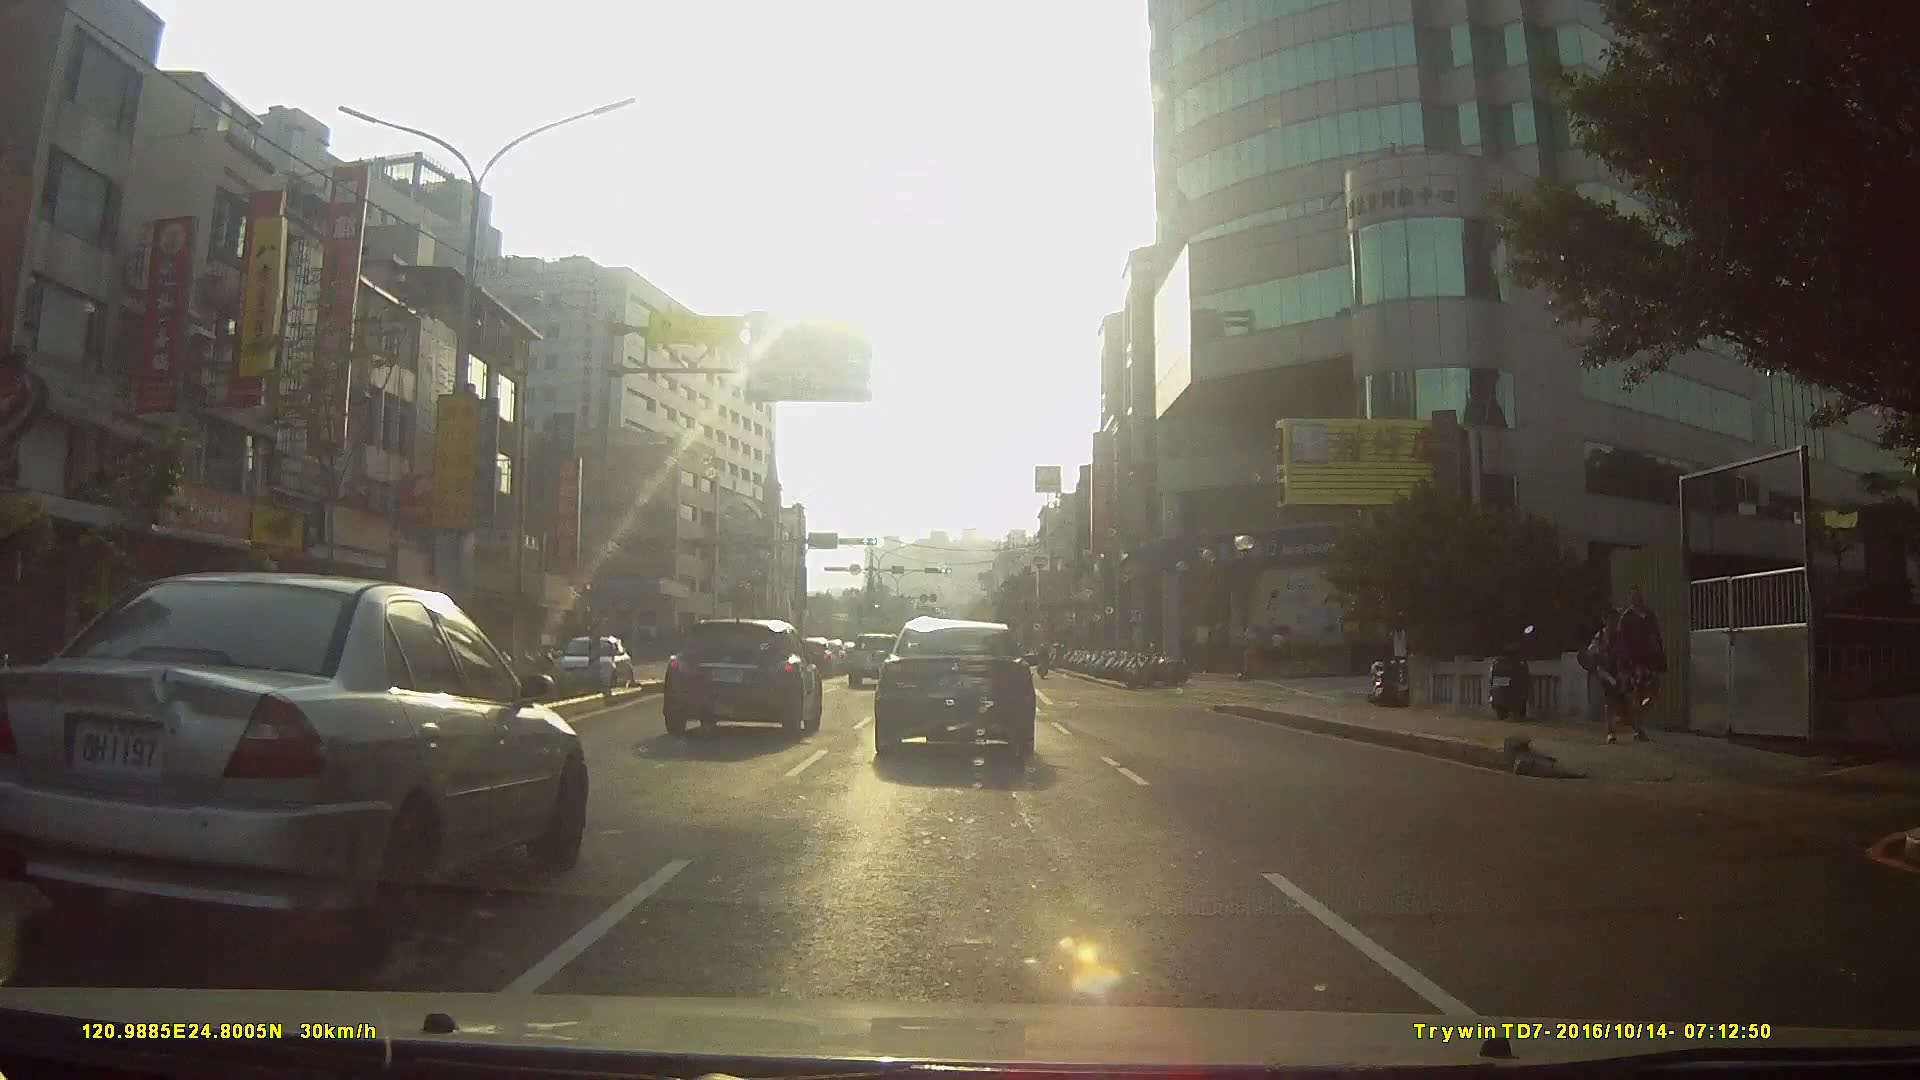pedestrian: (1611, 584, 1670, 738), (1583, 604, 1644, 745)
vehicle: (0, 568, 588, 949), (871, 616, 1036, 762), (660, 614, 823, 738), (544, 634, 635, 700), (844, 631, 904, 687)
